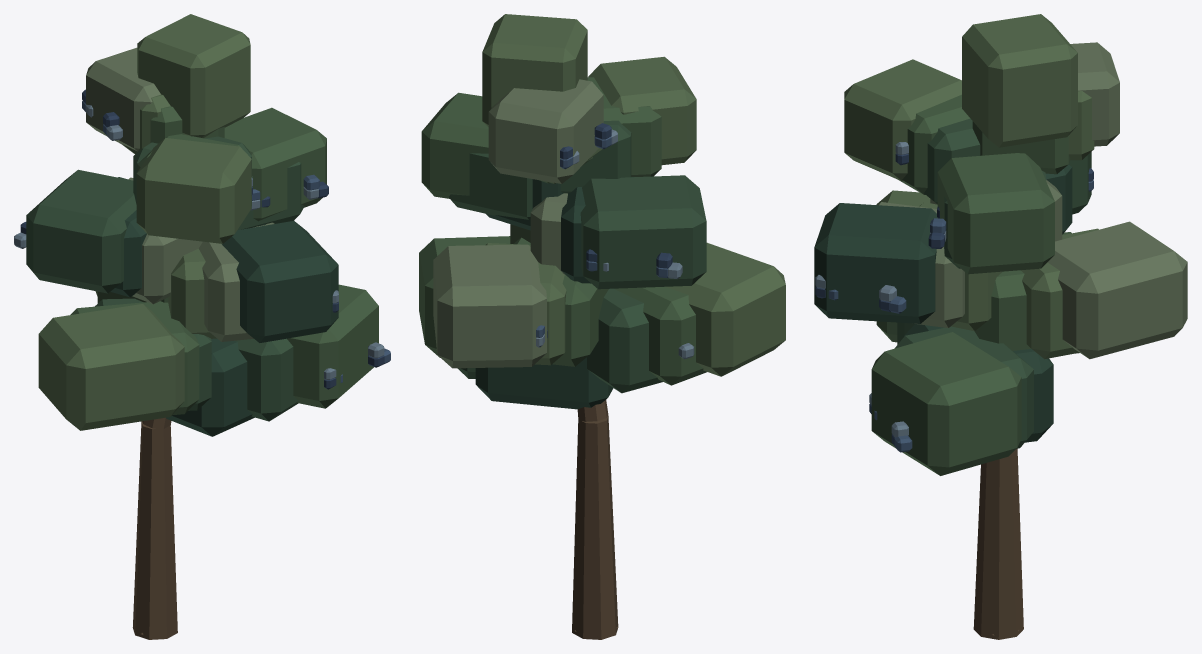
Rendered from juniper_mature_2.glb.
The picture shows the model from 3 angles, left to right: view 1: azimuth 30°, elevation 25°; view 2: azimuth 150°, elevation 25°; view 3: azimuth 270°, elevation 25°; orthographic projection. The views are drawn at different scales.
Parts seen in each view (by area): view 1: juniper_mature_2; view 2: juniper_mature_2; view 3: juniper_mature_2.
Boxes of the visible parts, <box> form: juniper_mature_2: <box>14,14,390,639</box>; juniper_mature_2: <box>419,14,785,639</box>; juniper_mature_2: <box>814,14,1187,639</box>.
Size of the model in its own units: 7.2 by 12 by 6.54.
